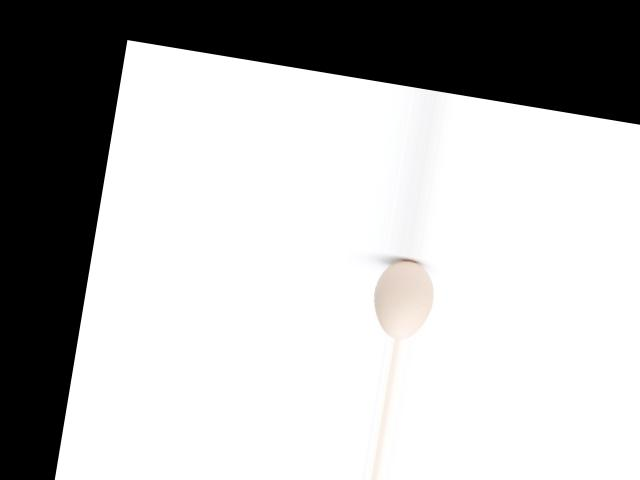egg: (368, 255, 438, 342)
